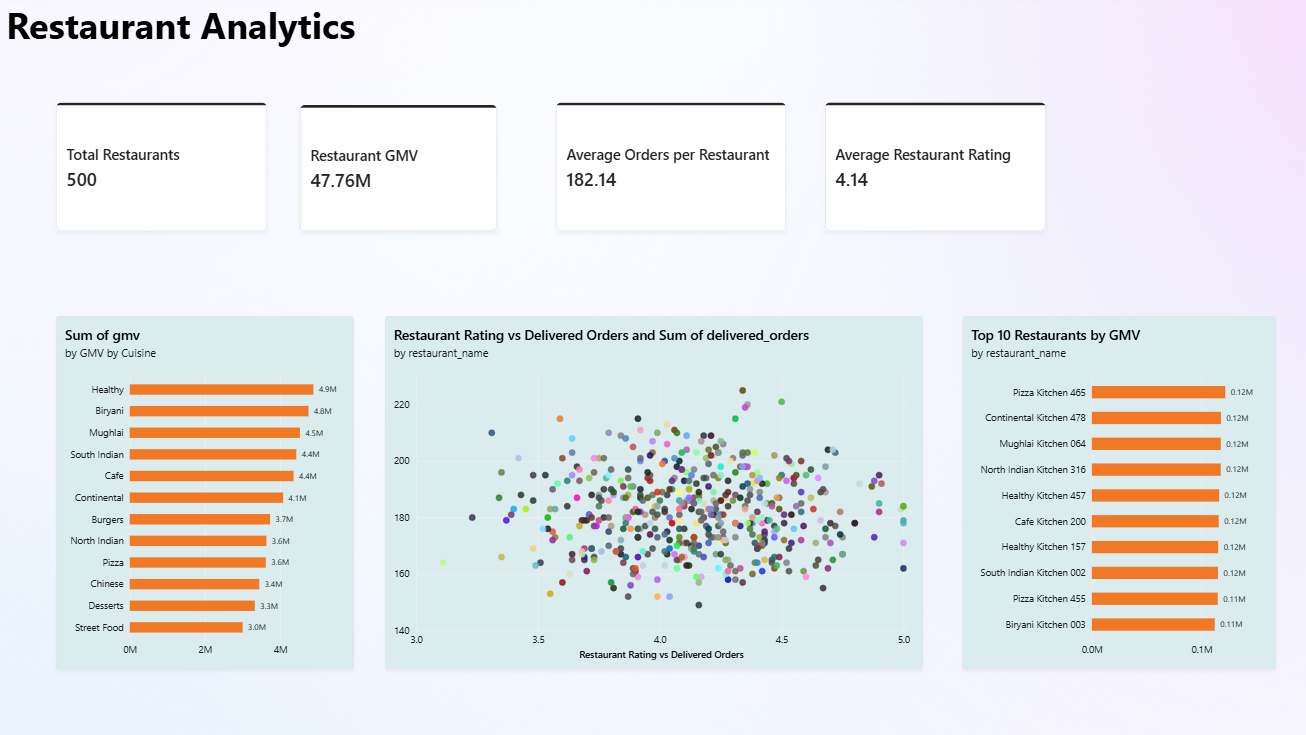

The dashboard page shown, as its layout file describes it:
{"tool":"powerbi","page":{"name":"Restaurant Analytics ","canvas":[1920,1080],"ordinal":2},"visuals":[{"type":"textbox","box":[10,0,572,82],"z":0},{"type":"cardVisual","fields":{"Data":["Count(food_delivery_analytics vw_restaurant_performance.restaurant_id)"]},"box":[82.5,150.4,310,188.9],"z":1000},{"type":"cardVisual","fields":{"Data":["Sum(food_delivery_analytics vw_restaurant_performance.gmv)"]},"box":[440.2,154.1,289.8,185.3],"z":2000},{"type":"cardVisual","fields":{"Data":["Customer Type.Average Orders per Restaurant"]},"box":[816.2,150.4,337.5,188.9],"z":3000},{"type":"cardVisual","fields":{"Data":["Customer Type.Average Restaurant Rating"]},"box":[1210.6,150.4,324.7,188.9],"z":4000},{"type":"clusteredBarChart","fields":{"Category":["food_delivery_analytics vw_restaurant_performance.restaurant_name"],"Y":["Sum(food_delivery_analytics vw_restaurant_performance.gmv)"]},"box":[1412.4,464.1,460.4,517.3],"z":5000},{"type":"clusteredBarChart","fields":{"Category":["food_delivery_analytics vw_restaurant_performance.cuisine"],"Y":["Sum(food_delivery_analytics vw_restaurant_performance.gmv)"]},"box":[82.5,464.1,436.6,517.3],"z":6000},{"type":"scatterChart","fields":{"Series":["food_delivery_analytics vw_restaurant_performance.restaurant_name"],"X":["Avg(food_delivery_analytics vw_restaurant_performance.restaurant_rating)"],"Y":["Sum(food_delivery_analytics vw_restaurant_performance.delivered_orders)"]},"box":[564.9,464.1,788.7,517.3],"z":7000}]}

Visuals, with their boxes in screenshot pixels (x1, y1, x2, y2), scaled from the page's 1920x1080 canvas onto the 1306x735 screenshot:
textbox: bbox(7, 0, 396, 56)
cardVisual - Count(food_delivery_analytics vw_restaurant_performance.restaurant_id): bbox(56, 102, 267, 231)
cardVisual - Sum(food_delivery_analytics vw_restaurant_performance.gmv): bbox(299, 105, 497, 231)
cardVisual - Customer Type.Average Orders per Restaurant: bbox(555, 102, 785, 231)
cardVisual - Customer Type.Average Restaurant Rating: bbox(823, 102, 1044, 231)
clusteredBarChart - food_delivery_analytics vw_restaurant_performance.restaurant_name x Sum(food_delivery_analytics vw_restaurant_performance.gmv): bbox(961, 316, 1274, 668)
clusteredBarChart - food_delivery_analytics vw_restaurant_performance.cuisine x Sum(food_delivery_analytics vw_restaurant_performance.gmv): bbox(56, 316, 353, 668)
scatterChart - food_delivery_analytics vw_restaurant_performance.restaurant_name x Avg(food_delivery_analytics vw_restaurant_performance.restaurant_rating): bbox(384, 316, 921, 668)
